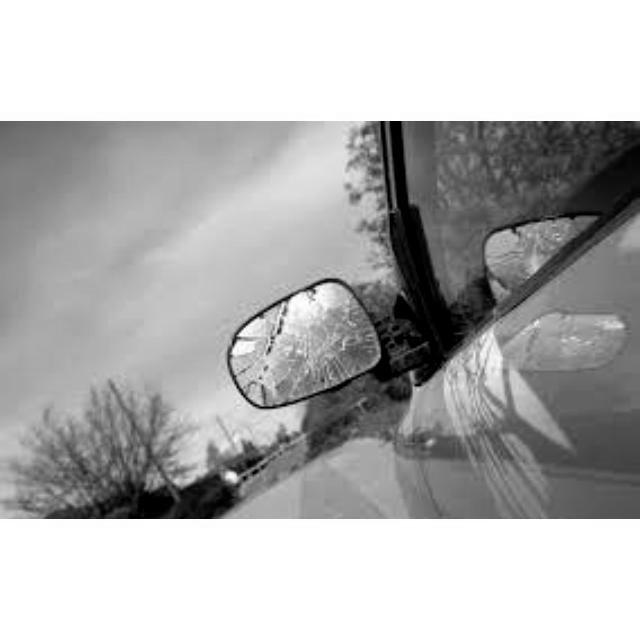Sidemirror-Damage: (228, 275, 383, 410)
